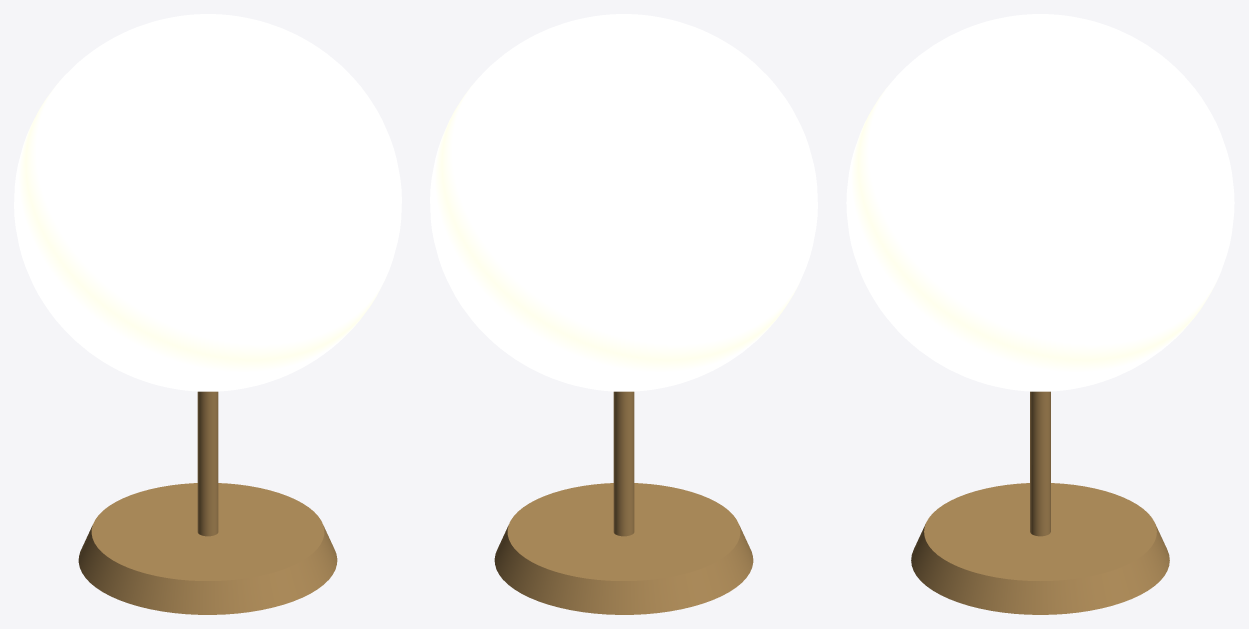
The model's file is luminaria-lua.glb.
The picture shows the model from 3 angles, left to right: view 1: azimuth 30°, elevation 25°; view 2: azimuth 150°, elevation 25°; view 3: azimuth 270°, elevation 25°; orthographic projection.
Parts seen in each view (by area): view 1: globe, luminaria-lua; view 2: globe, luminaria-lua; view 3: globe, luminaria-lua.
Boxes of the visible parts, x1,y1,x2,y2 form: globe: (14,14,401,391); luminaria-lua: (78,391,337,614); globe: (430,14,817,391); luminaria-lua: (494,391,753,614); globe: (846,14,1234,391); luminaria-lua: (911,391,1169,614).
Size of the model in its own units: 0.3 by 0.45 by 0.3.
